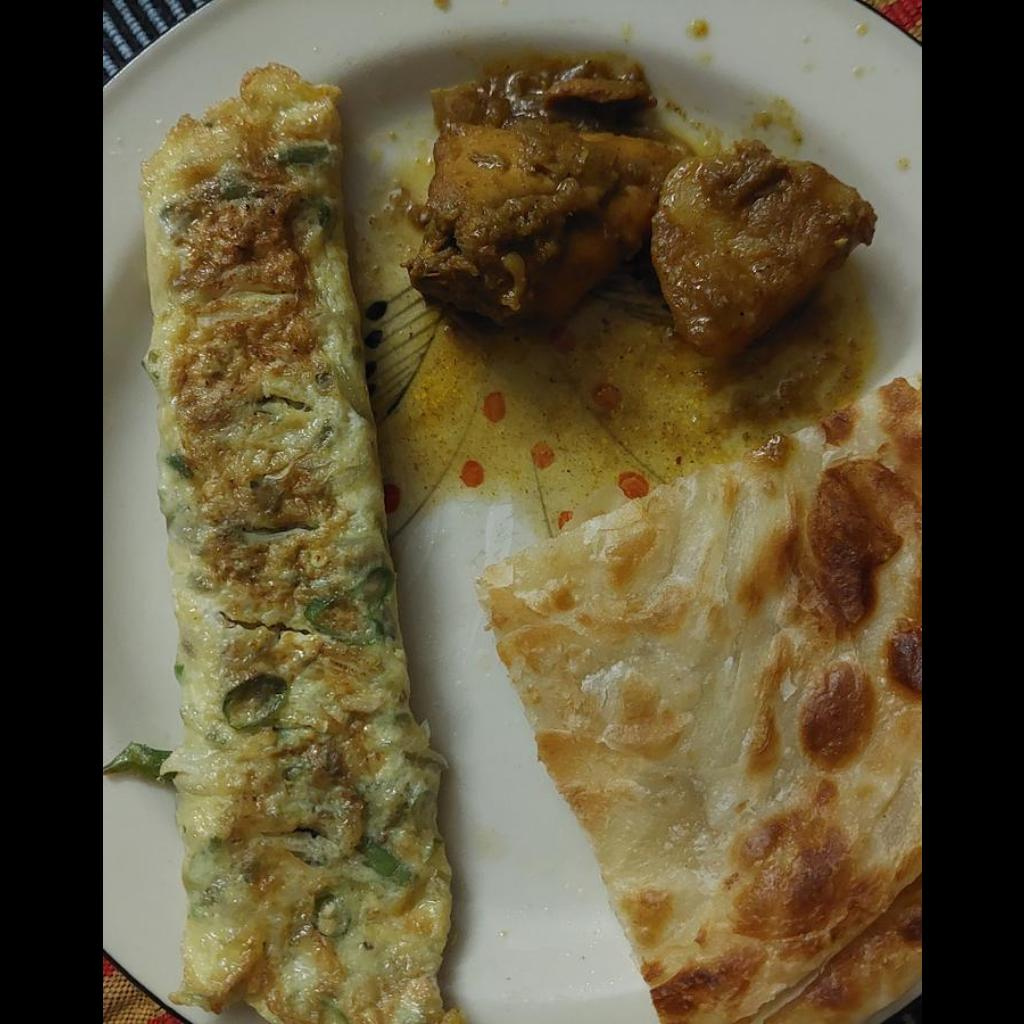chicken: (403, 130, 701, 321)
egg-poached: (135, 64, 451, 1023)
ruti: (480, 379, 920, 1020)
